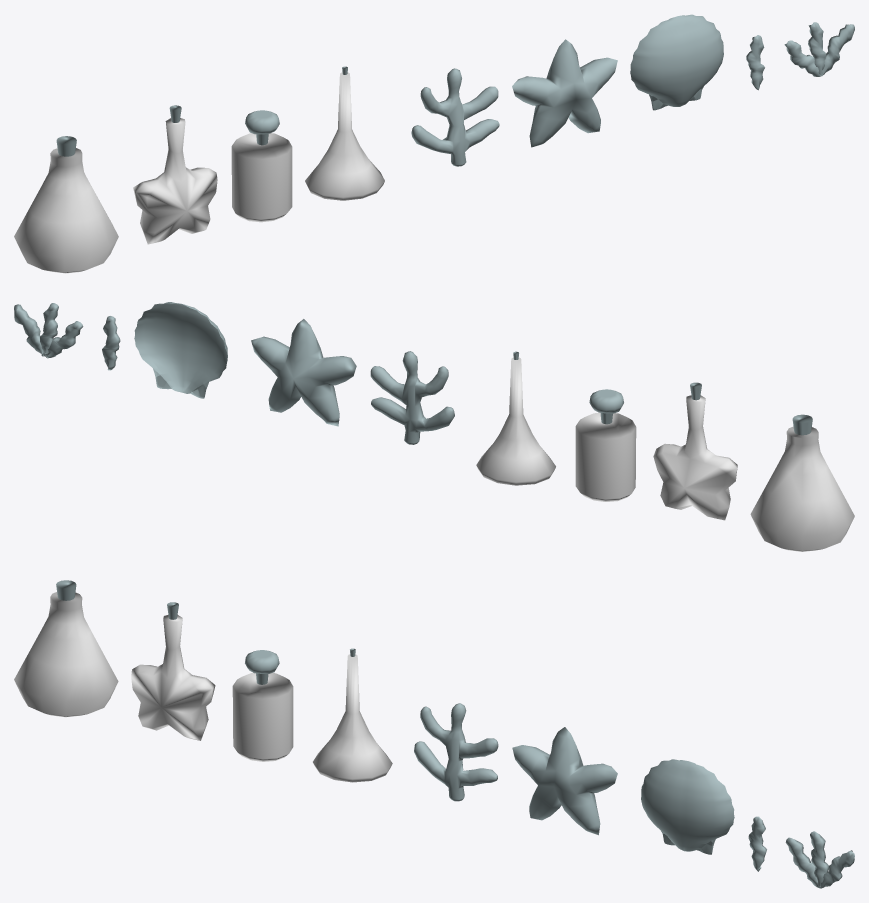
The model's file is navemar products.fbx.
The picture shows the model from 3 angles, top to bottom: view 1: azimuth 30°, elevation 25°; view 2: azimuth 150°, elevation 25°; view 3: azimuth 330°, elevation 25°; orthographic projection.
Visible parts, largest first — view 1: sacred waters v1, clam shell, sacred waters v2, sacred waters v3, star veggie, sacred waters v4, big seaweed, seaweed cluster, little seaweed; view 2: sacred waters v1, clam shell, sacred waters v2, sacred waters v3, star veggie, sacred waters v4, big seaweed, seaweed cluster, little seaweed; view 3: sacred waters v1, clam shell, sacred waters v2, sacred waters v3, star veggie, sacred waters v4, big seaweed, seaweed cluster, little seaweed.
Part boxes in pixels (x1=…): sacred waters v1: x1=14, y1=136, x2=118, y2=273; clam shell: x1=630, y1=14, x2=723, y2=110; sacred waters v2: x1=133, y1=105, x2=217, y2=244; sacred waters v3: x1=231, y1=110, x2=292, y2=222; star veggie: x1=512, y1=39, x2=617, y2=147; sacred waters v4: x1=305, y1=66, x2=384, y2=200; big seaweed: x1=411, y1=68, x2=499, y2=166; seaweed cluster: x1=784, y1=22, x2=854, y2=76; little seaweed: x1=746, y1=35, x2=764, y2=90; sacred waters v1: x1=750, y1=414, x2=854, y2=551; clam shell: x1=134, y1=302, x2=227, y2=398; sacred waters v2: x1=653, y1=382, x2=737, y2=520; sacred waters v3: x1=575, y1=389, x2=636, y2=501; star veggie: x1=251, y1=319, x2=356, y2=426; sacred waters v4: x1=476, y1=351, x2=555, y2=485; big seaweed: x1=370, y1=351, x2=454, y2=444; seaweed cluster: x1=14, y1=303, x2=83, y2=358; little seaweed: x1=102, y1=316, x2=120, y2=370; sacred waters v1: x1=14, y1=580, x2=118, y2=717; clam shell: x1=641, y1=759, x2=734, y2=854; sacred waters v2: x1=131, y1=602, x2=215, y2=740; sacred waters v3: x1=232, y1=650, x2=293, y2=761; star veggie: x1=512, y1=727, x2=617, y2=835; sacred waters v4: x1=313, y1=648, x2=392, y2=782; big seaweed: x1=414, y1=703, x2=498, y2=801; seaweed cluster: x1=785, y1=831, x2=854, y2=888; little seaweed: x1=748, y1=816, x2=766, y2=871.
Size of the model in its own units: 467 by 69.12 by 47.86.
